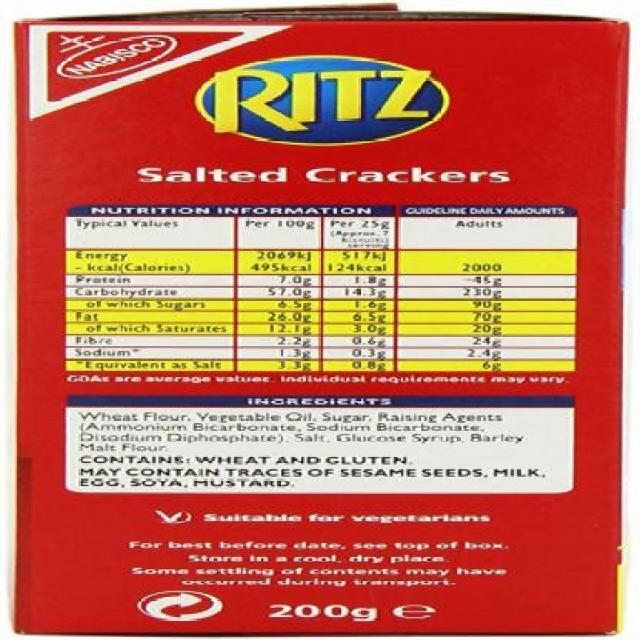Ritz cracker: (3, 3, 640, 640)
